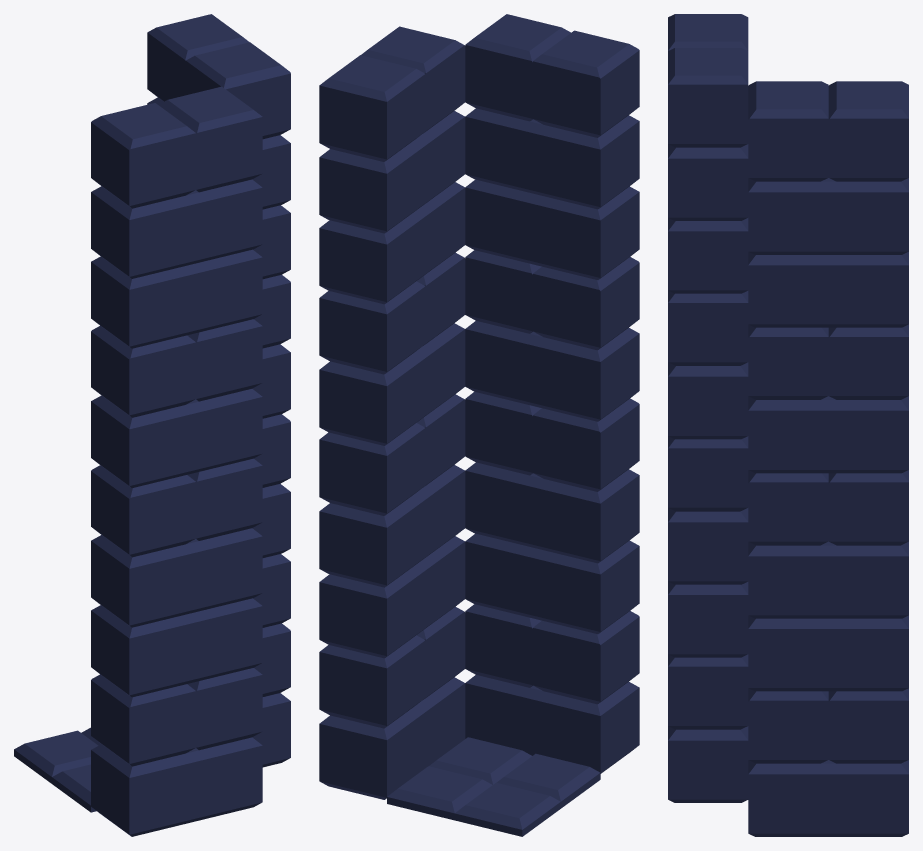
File: Edge wall tiled.fbx
3 views of the same model, side by side, from view 1: azimuth 30°, elevation 25°; view 2: azimuth 150°, elevation 25°; view 3: azimuth 270°, elevation 25° (orthographic). The views are drawn at different scales.
Visible parts, largest first — view 1: obj_0.020; view 2: obj_0.020; view 3: obj_0.020.
Part boxes in pixels (x1,y1,x2,y2): obj_0.020: (14,14,290,836); obj_0.020: (319,14,639,836); obj_0.020: (668,14,908,836).
Bounding box in the file's own units: 3000 × 10000 × 3000.
